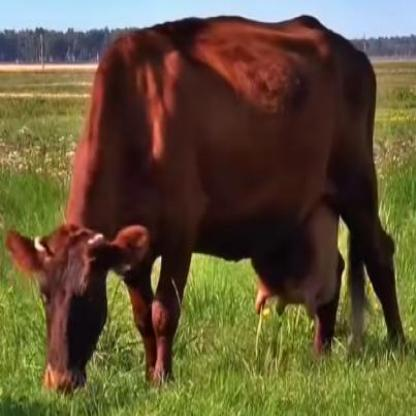cow: (9, 19, 407, 395)
